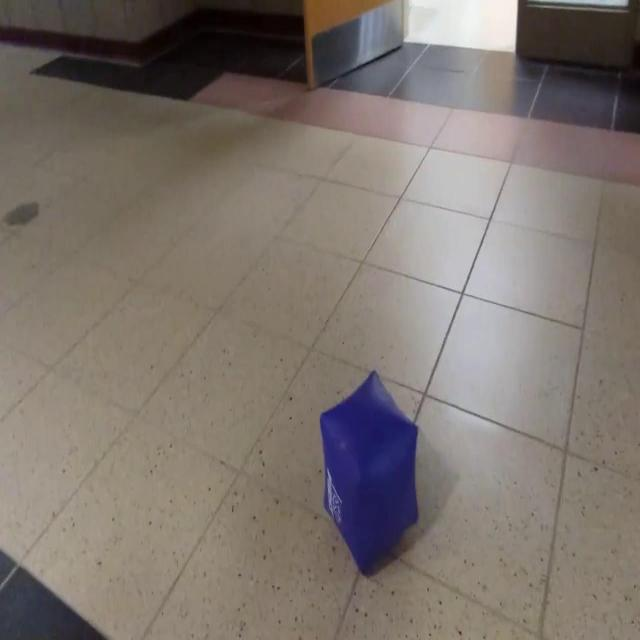frc_cube: (318, 369, 421, 579)
